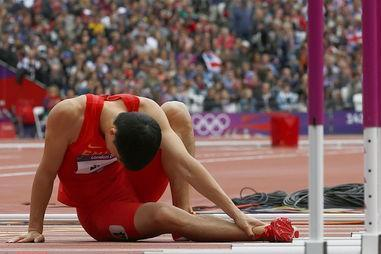Fall-Detected: (8, 86, 298, 242)
